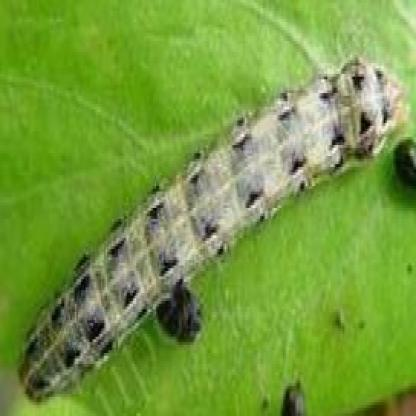armyworm: (16, 43, 412, 407)
